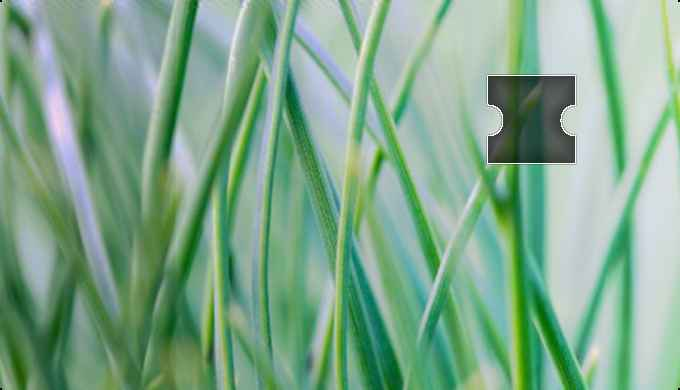gap: (488, 77, 574, 163)
